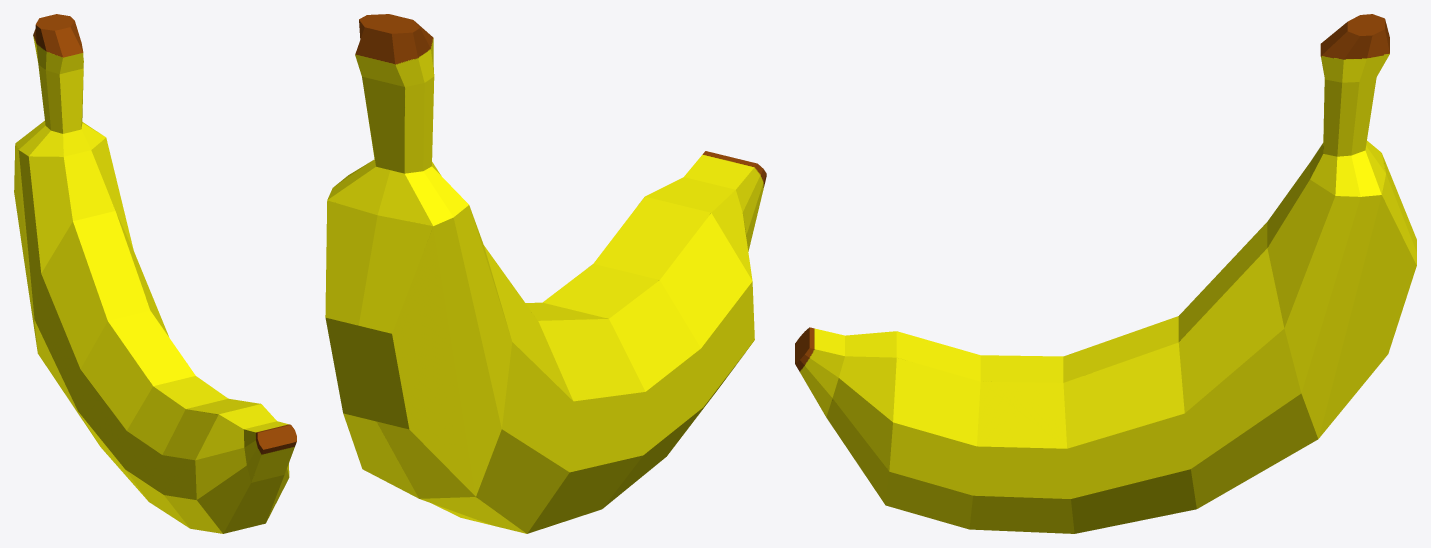
File: Banana.fbx
The picture shows the model from 3 angles, left to right: view 1: azimuth 30°, elevation 25°; view 2: azimuth 150°, elevation 25°; view 3: azimuth 270°, elevation 25°; orthographic projection. The views are drawn at different scales.
Visible parts, largest first — view 1: Banana; view 2: Banana; view 3: Banana.
Boxes of the visible parts, x1=… form: Banana: x1=14, y1=14, x2=296, y2=533; Banana: x1=325, y1=14, x2=766, y2=533; Banana: x1=795, y1=14, x2=1416, y2=533.
Bounding box in the file's own units: 194 × 782 × 887.
